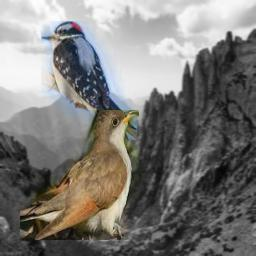Cuckoo: (20, 110, 139, 240)
Woodpecker: (41, 21, 137, 140)
